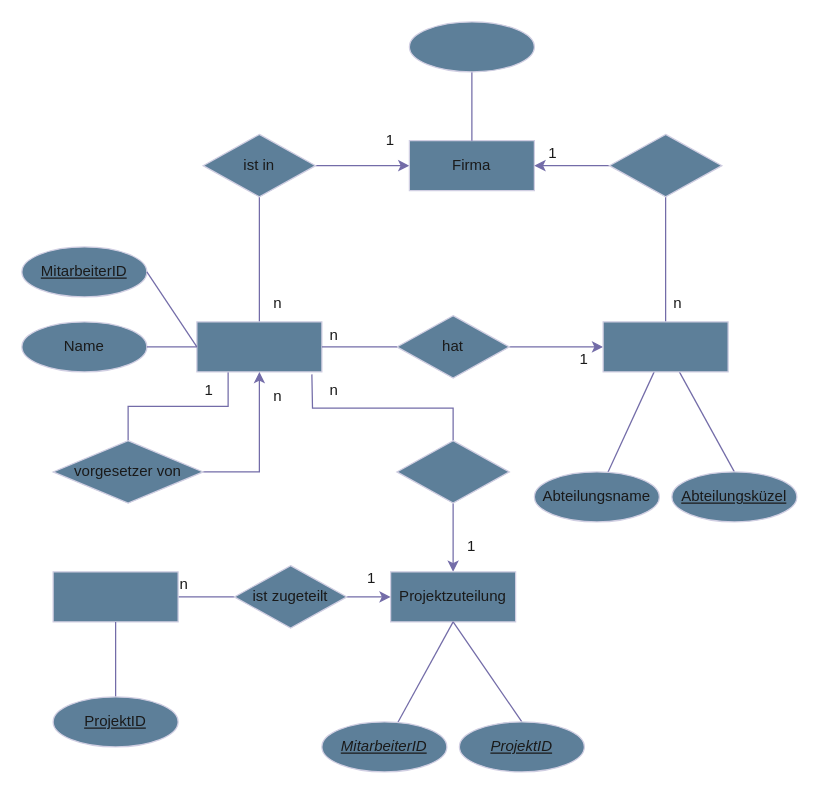
Image size: 819x794. Some labels were removed from this diagram. The box of each missing label's shape, as (x1, y1, x2, y2) in pixels:
Abteilung: (602, 321, 728, 372)
gehören zu: (608, 133, 722, 197)
ist teil von: (396, 439, 509, 503)
Mitarbeiter: (196, 321, 322, 372)
Projekt: (52, 571, 178, 622)
UID nummer: (408, 21, 534, 72)
